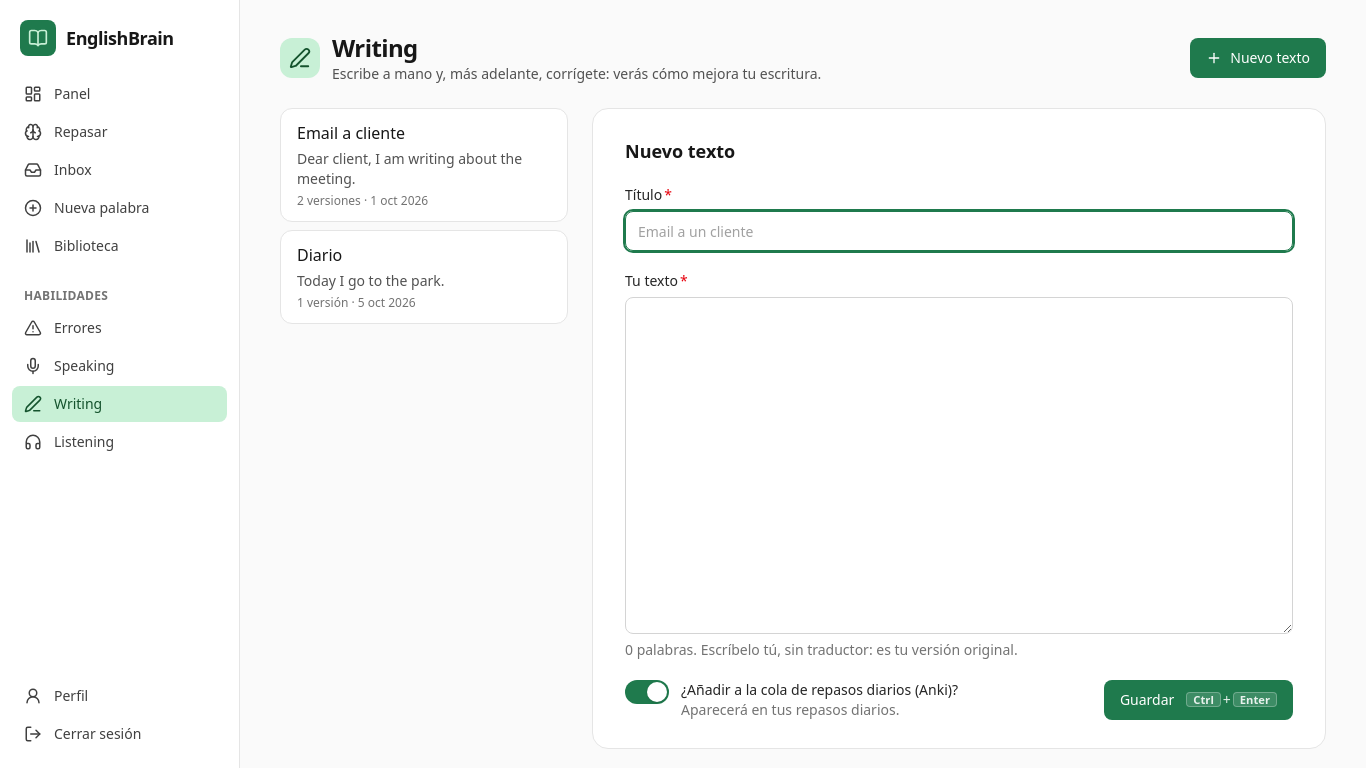
14.1 · Writing › sin título o sin texto no guarda y lo señala
Step 1. Click the button "Guardar Ctrl + Enter" → (1198, 700), box x1=1104 y1=680 x2=1293 y2=720
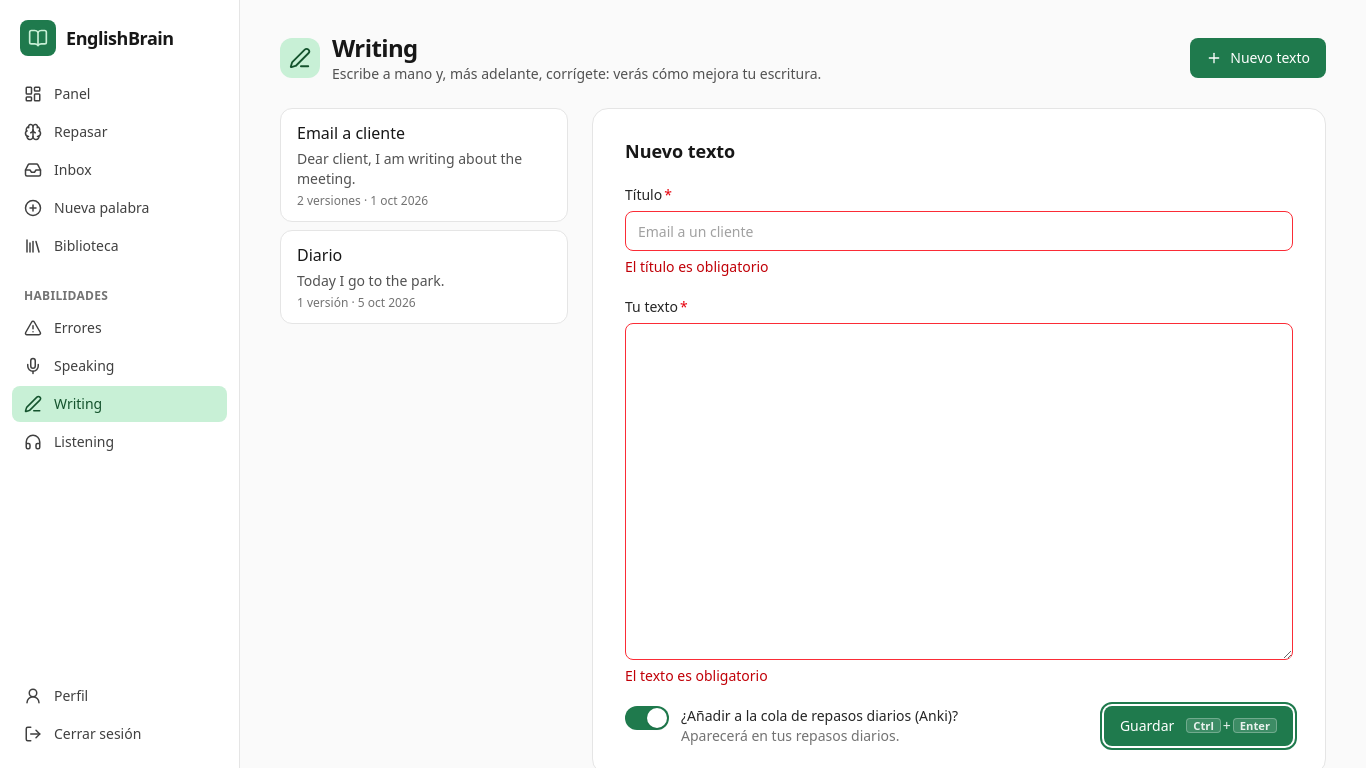
expect the text "El título es obligatorio" is shown: met, box x1=625 y1=257 x2=768 y2=276
expect the text "El texto es obligatorio" is shown: met, box x1=625 y1=666 x2=768 y2=684
